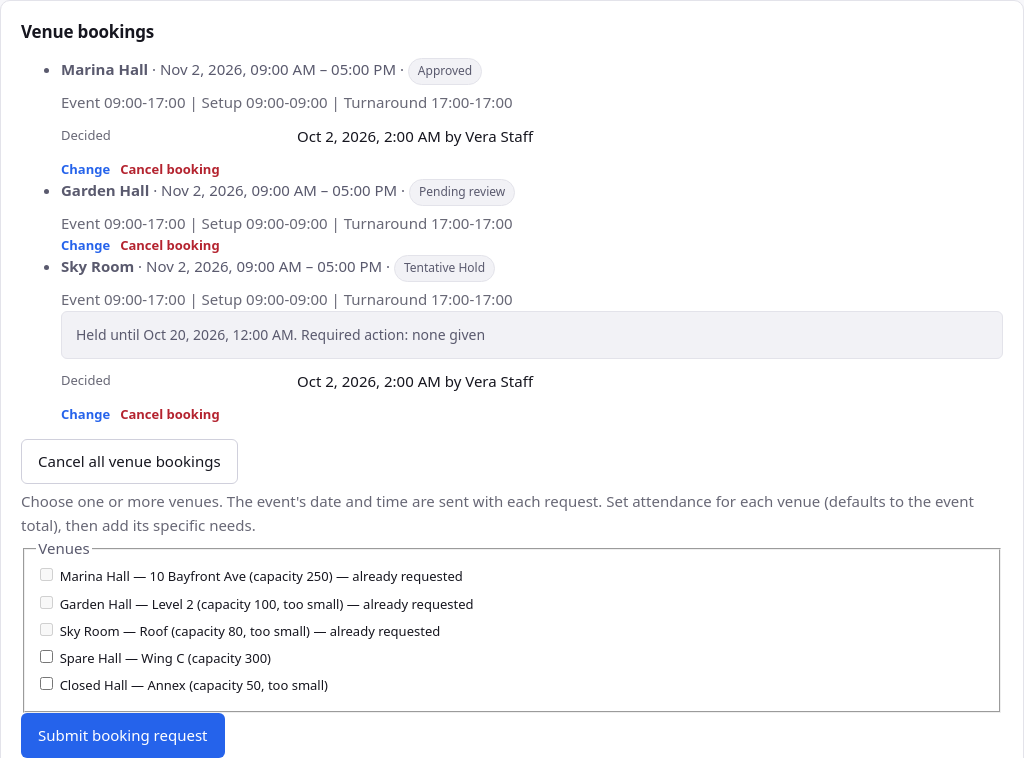
SCRUM-96 AC2 - the change form › says a pending booking’s change will be seen by Venue Staff
The width and height of the screenshot is (1024, 758).
Expected: the text "Garden Hall" is shown, [61,180,149,200]
Click the button with aria-label "Change Garden Hall booking": (86, 245) [61,235,110,255]
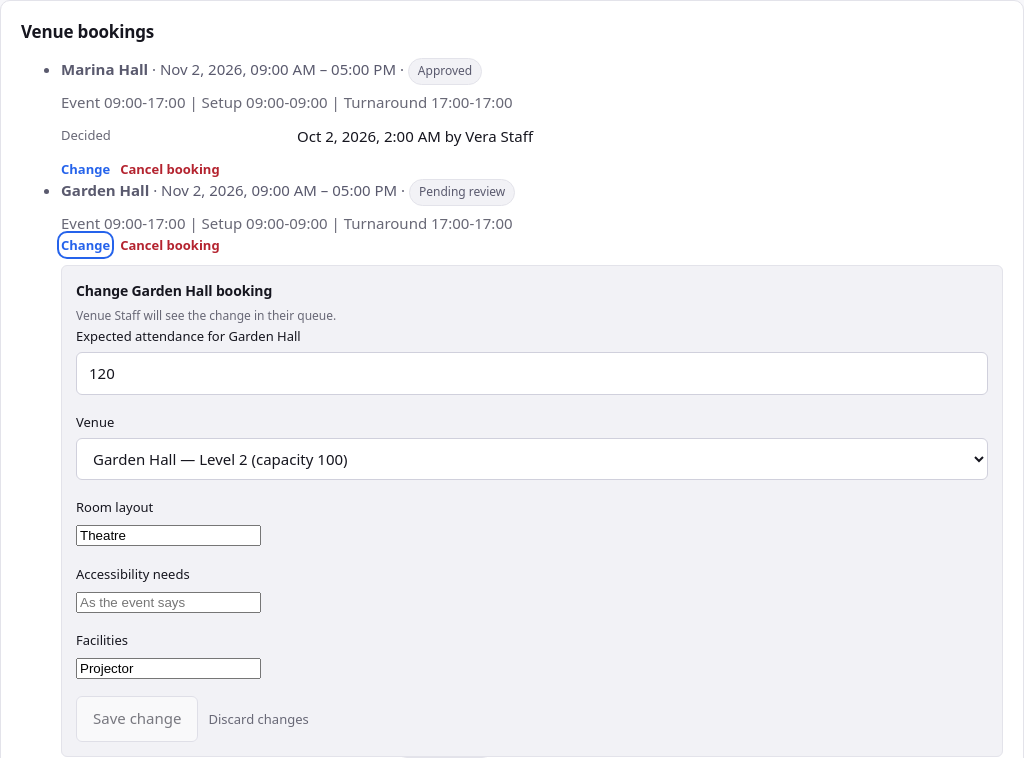
Expected: the text "Venue Staff will see the change in their queue." is shown, [76,307,336,324]
